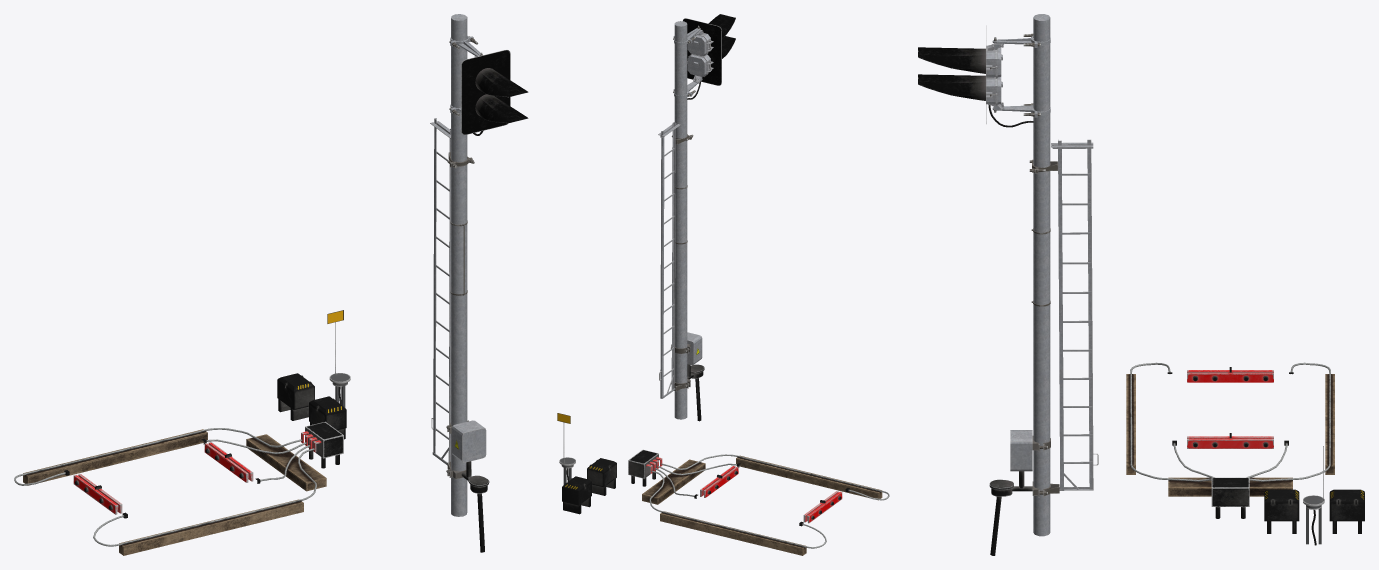
Rendered from RM_sig_M_MM1_WR_2_shnt.gltf.
The picture shows the model from 3 angles, left to right: view 1: azimuth 30°, elevation 25°; view 2: azimuth 150°, elevation 25°; view 3: azimuth 270°, elevation 25°; orthographic projection. The views are drawn at different scales.
Parts seen in each view (by area): view 1: Светофор 2, Изостык; view 2: Светофор 2, Изостык; view 3: Светофор 2, Изостык.
Part boxes in pixels (box(x1,y1,x2,y2)): Светофор 2: box(430, 14, 528, 552); Изостык: box(14, 310, 350, 555); Светофор 2: box(658, 14, 735, 421); Изостык: box(557, 413, 889, 555); Светофор 2: box(918, 14, 1098, 555); Изостык: box(1126, 362, 1364, 545).
Size of the model in its own units: 4.1 by 6.04 by 4.55.
2 materials, 2 textured.
